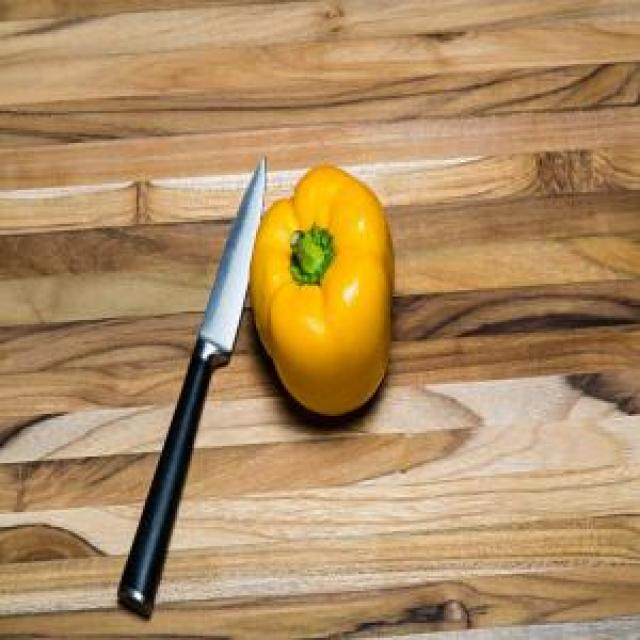knife: (115, 149, 270, 620)
